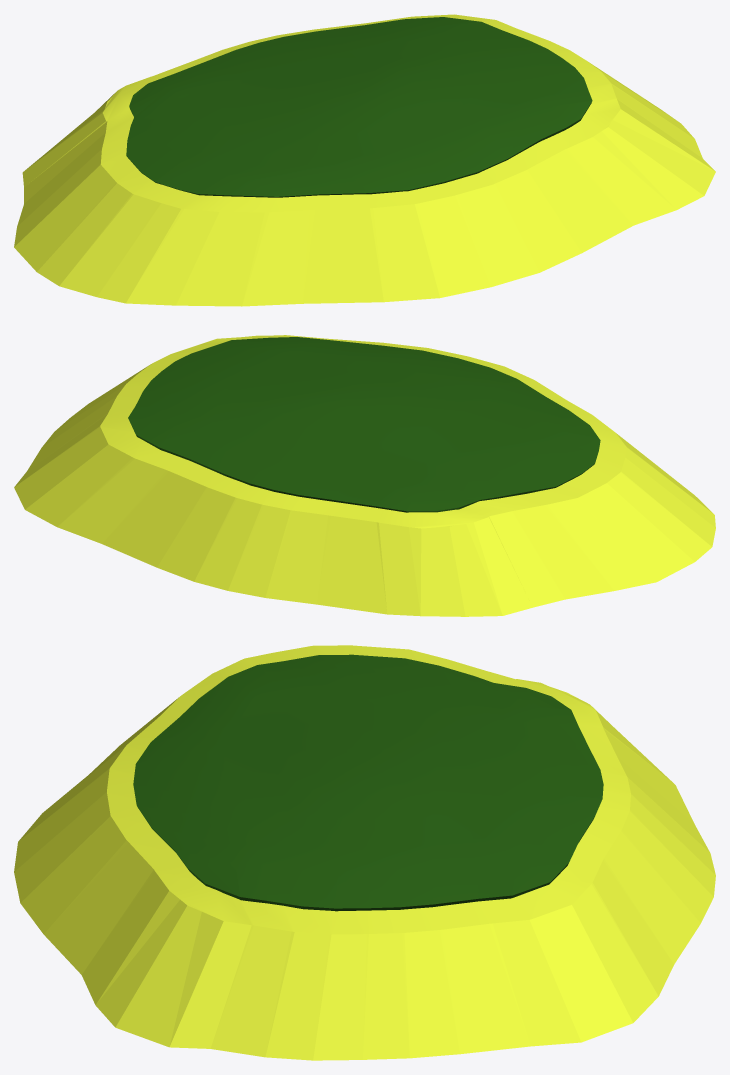
The model's file is Island 2.fbx.
The picture shows the model from 3 angles, top to bottom: view 1: azimuth 30°, elevation 25°; view 2: azimuth 150°, elevation 25°; view 3: azimuth 270°, elevation 25°; orthographic projection. The views are drawn at different scales.
Parts seen in each view (by area): view 1: Surface001, Surface002; view 2: Surface001, Surface002; view 3: Surface001, Surface002.
Part boxes in pixels (x1,y1,x2,y2): Surface001: [14, 14, 715, 306]; Surface002: [126, 17, 592, 197]; Surface001: [14, 335, 715, 616]; Surface002: [128, 337, 600, 512]; Surface001: [14, 645, 715, 1060]; Surface002: [133, 654, 603, 911].
Size of the model in its own units: 143 by 19.52 by 109.
